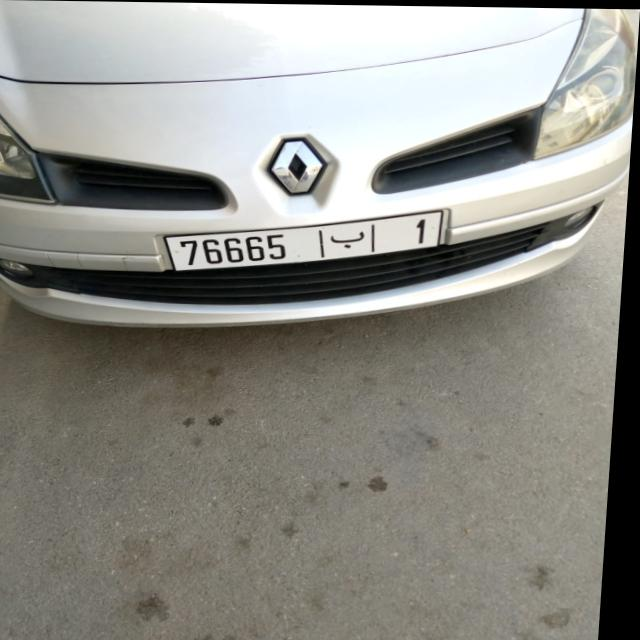License-Plate: (169, 210, 446, 270)
